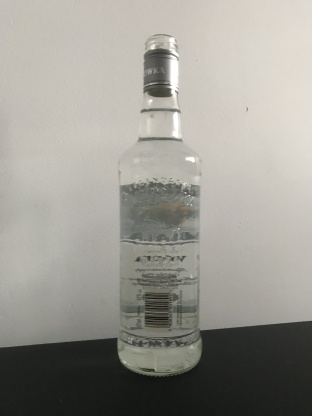nakretka: (141, 31, 181, 98), (141, 32, 180, 98)
